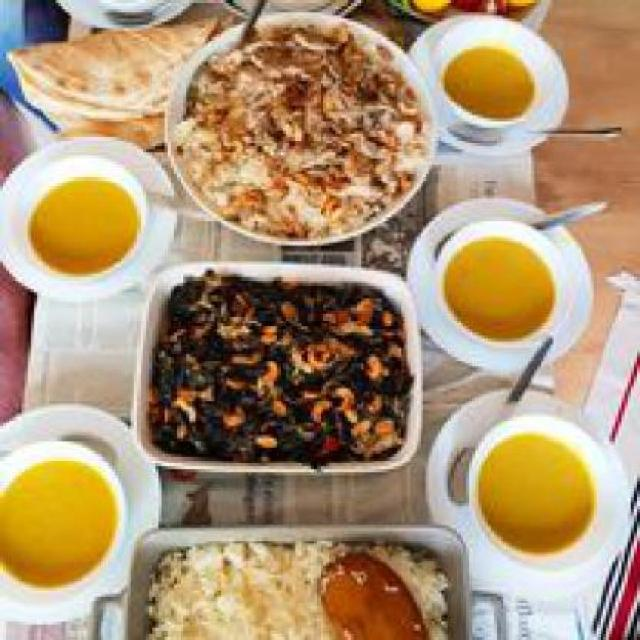fried rice: (183, 29, 414, 242), (140, 525, 445, 637)
lentil soup: (427, 19, 616, 550), (3, 137, 128, 603)
molokhia: (145, 267, 404, 476)
